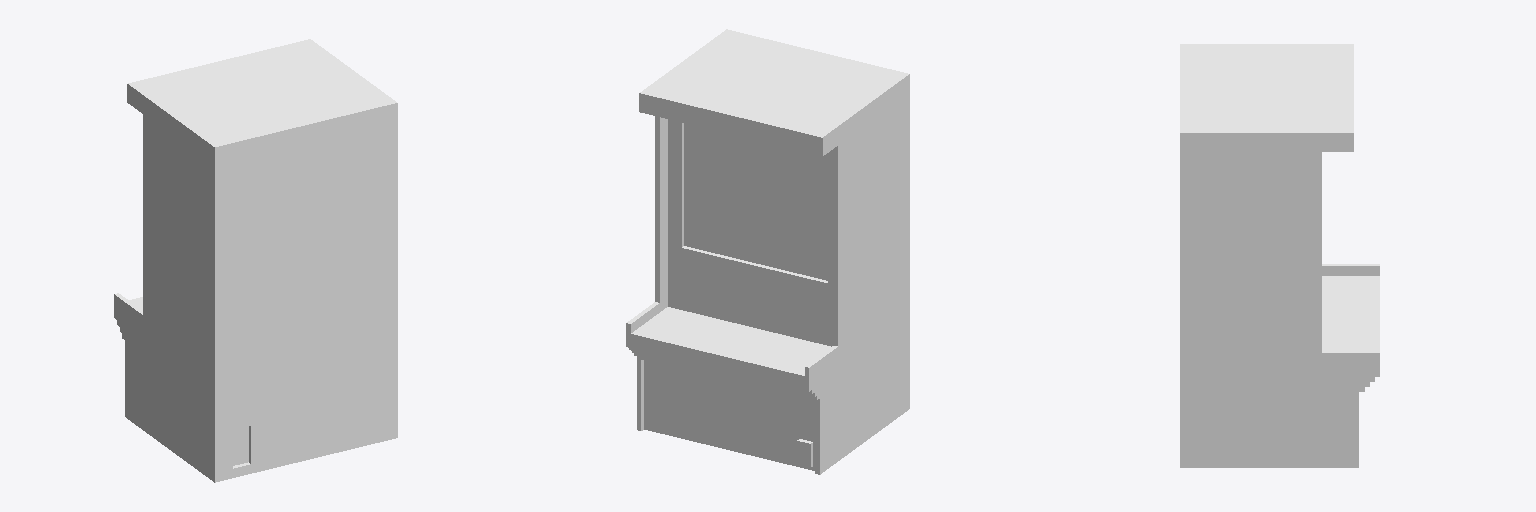
File: machenike3.obj
The picture shows the model from 3 angles: view 1: azimuth 30°, elevation 25°; view 2: azimuth 150°, elevation 25°; view 3: azimuth 270°, elevation 25°; orthographic projection.
Parts seen in each view (by area): view 1: object 1; view 2: object 1; view 3: object 1.
Part boxes in pixels (bbox=[...]): object 1: bbox=[114, 39, 397, 482]; object 1: bbox=[626, 29, 909, 474]; object 1: bbox=[1180, 44, 1379, 467].
Size of the model in its own units: 4 by 7 by 3.8.